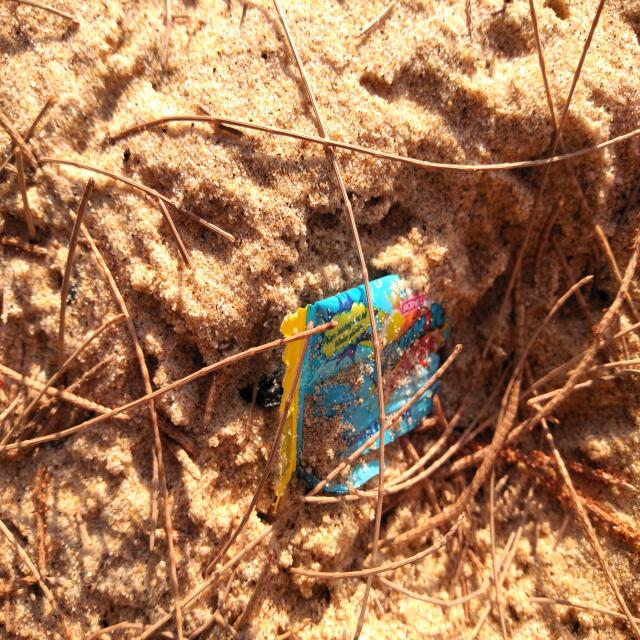litter: (277, 271, 446, 507)
